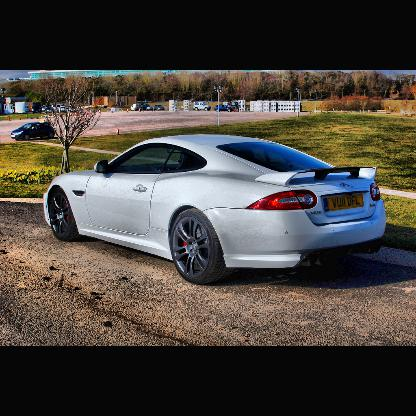Jaguar XK XKR 2012: (44, 133, 385, 287)
